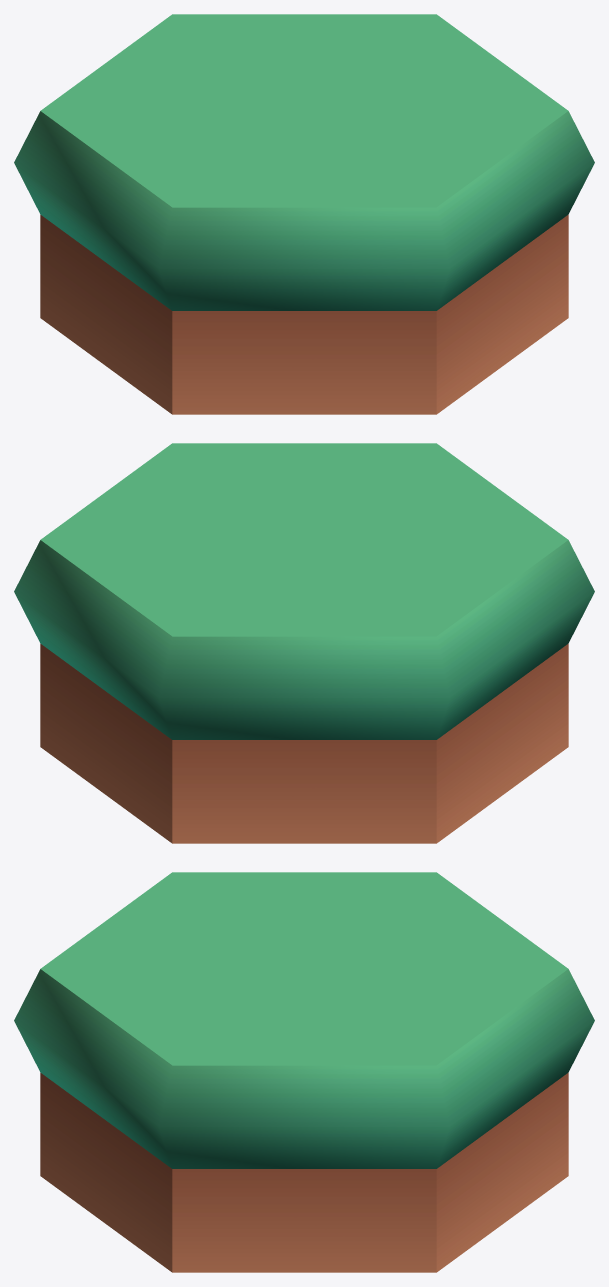
The model's file is block-grass-low-hexagon.glb.
The picture shows the model from 3 angles, top to bottom: view 1: azimuth 30°, elevation 25°; view 2: azimuth 150°, elevation 25°; view 3: azimuth 270°, elevation 25°; orthographic projection.
Visible parts, largest first — view 1: block-grass-low-hexagon; view 2: block-grass-low-hexagon; view 3: block-grass-low-hexagon.
Part boxes in pixels (left/top/right/bottom): block-grass-low-hexagon: left=14, top=14, right=594, bottom=414; block-grass-low-hexagon: left=14, top=443, right=594, bottom=843; block-grass-low-hexagon: left=14, top=872, right=594, bottom=1272.
Bounding box in the file's own units: 1.1 × 0.4999 × 1.27.
1 material, 1 textured.
